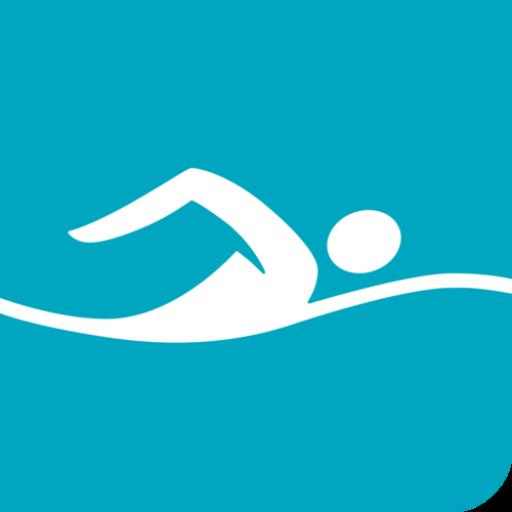swimming: (1, 165, 511, 344)
